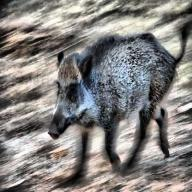boar: (30, 13, 192, 178)
